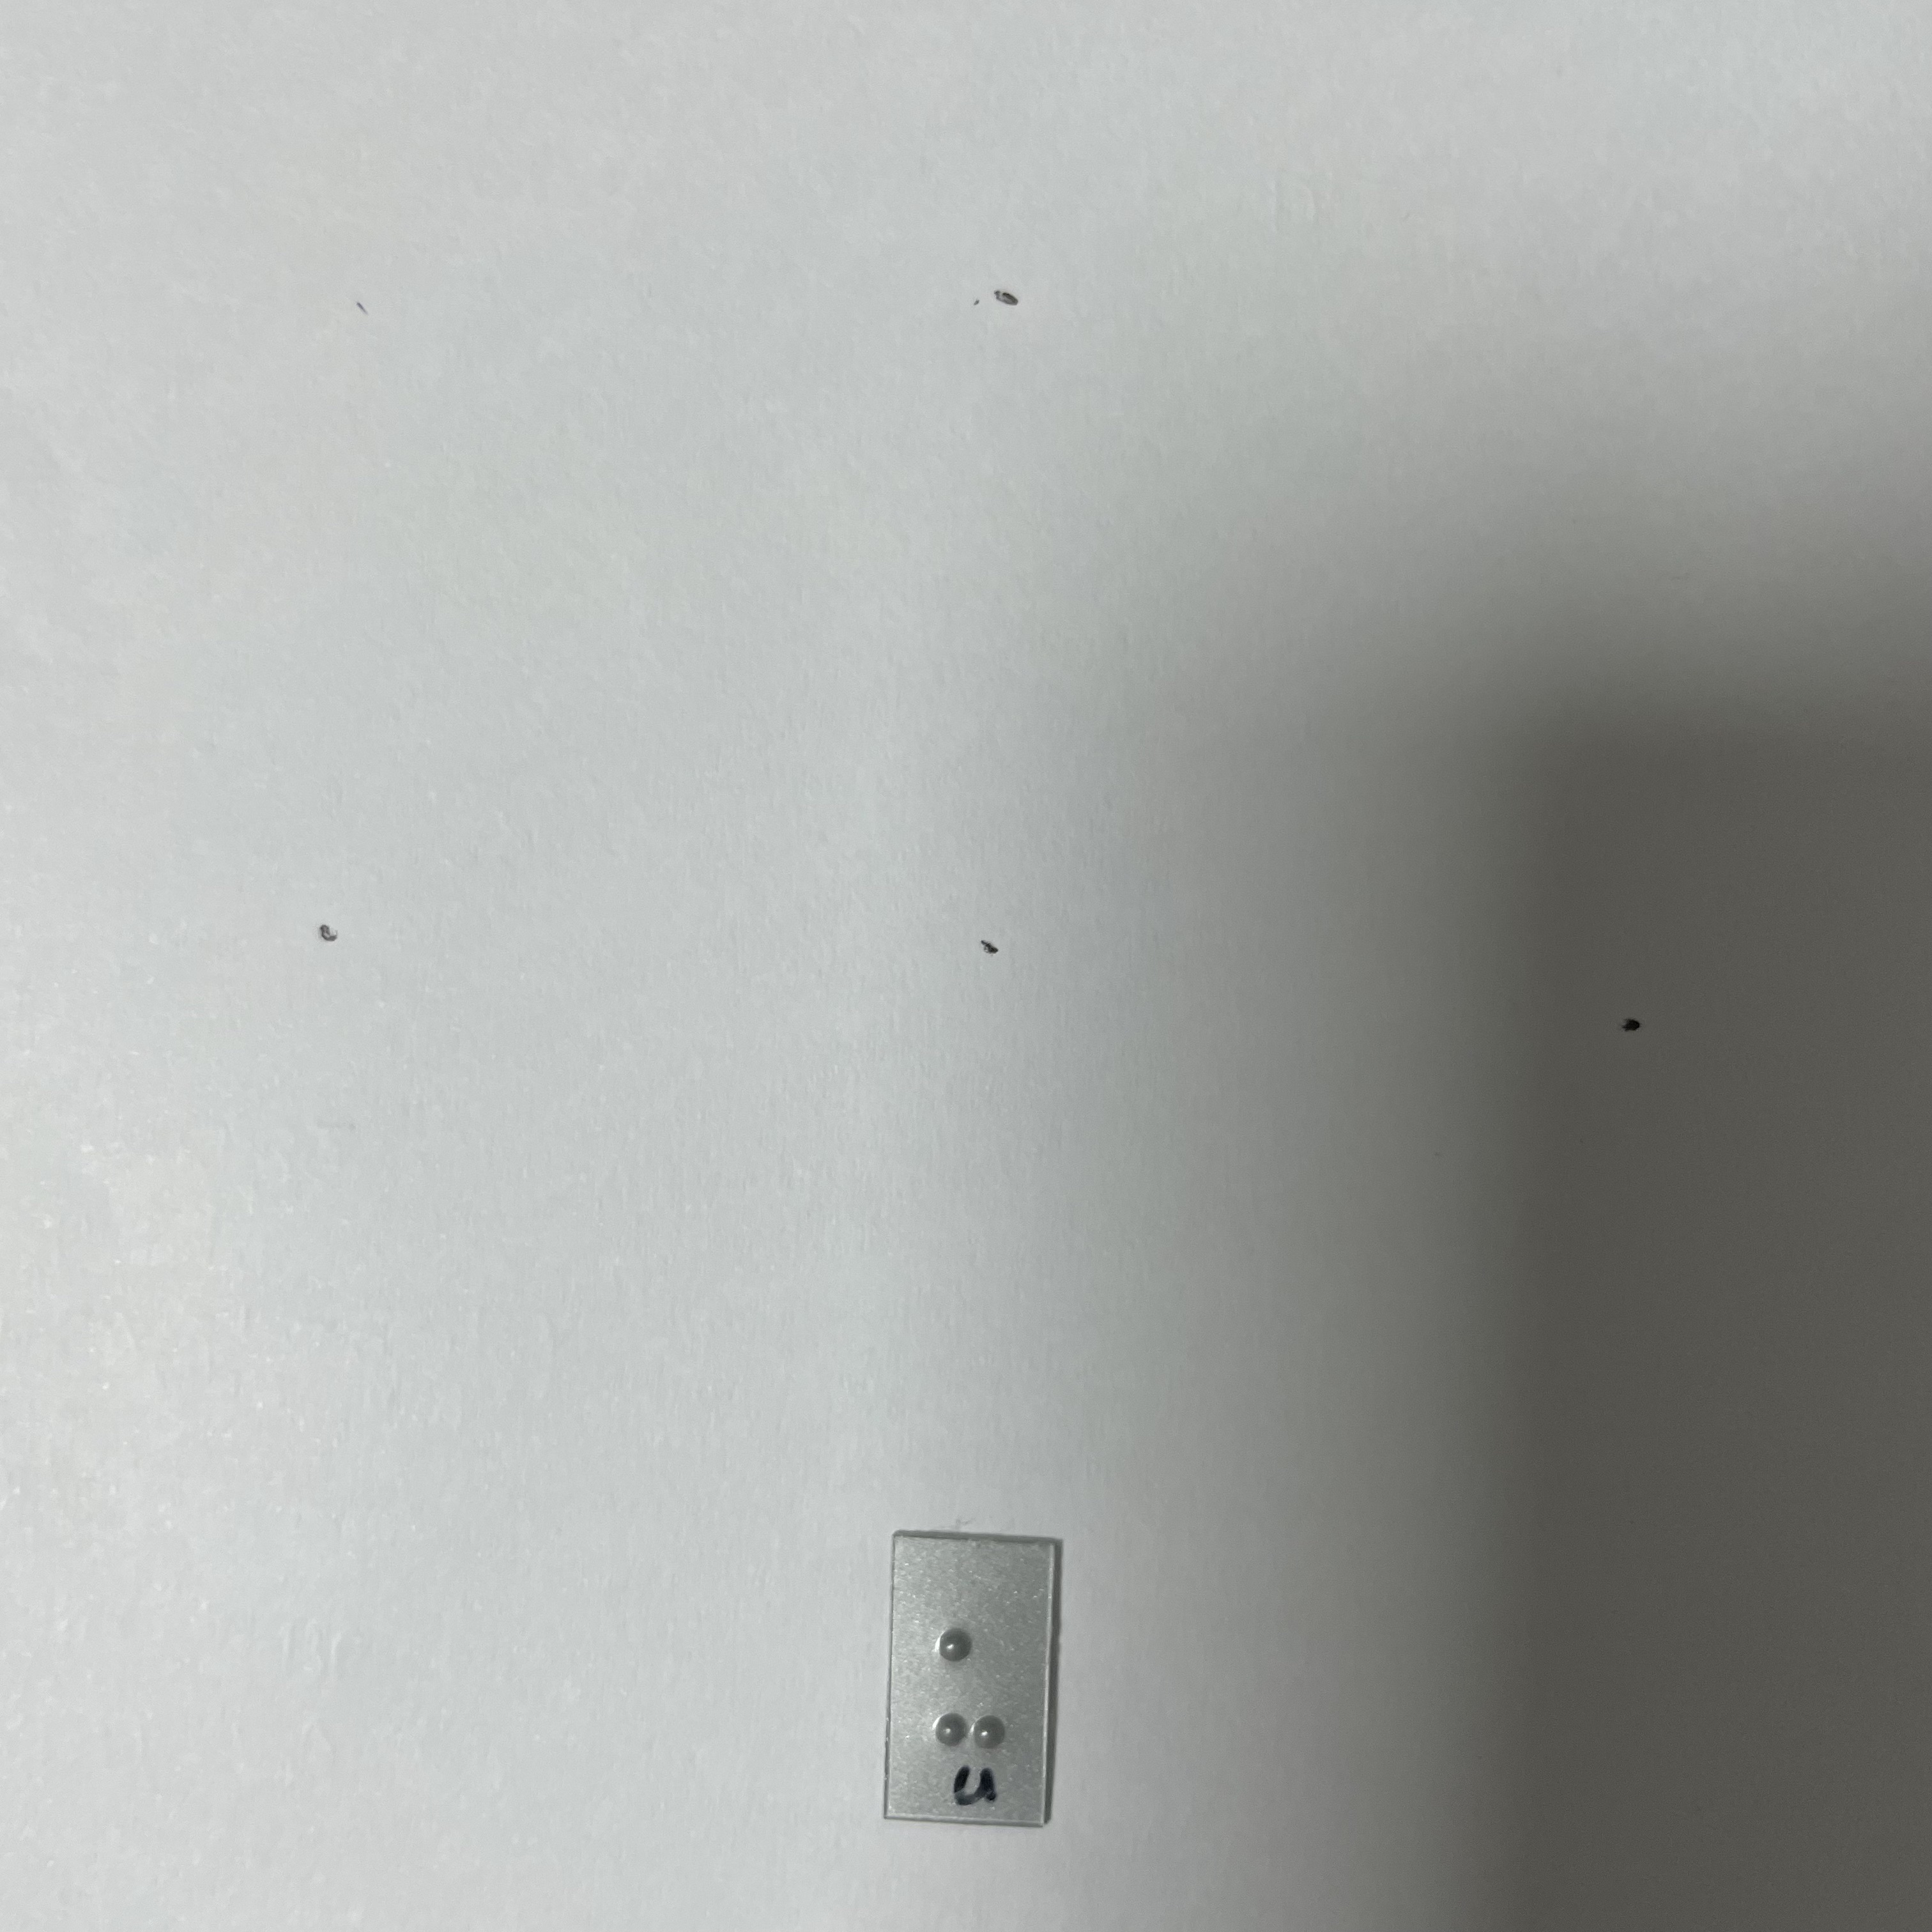u: (921, 1609, 1022, 1763)
